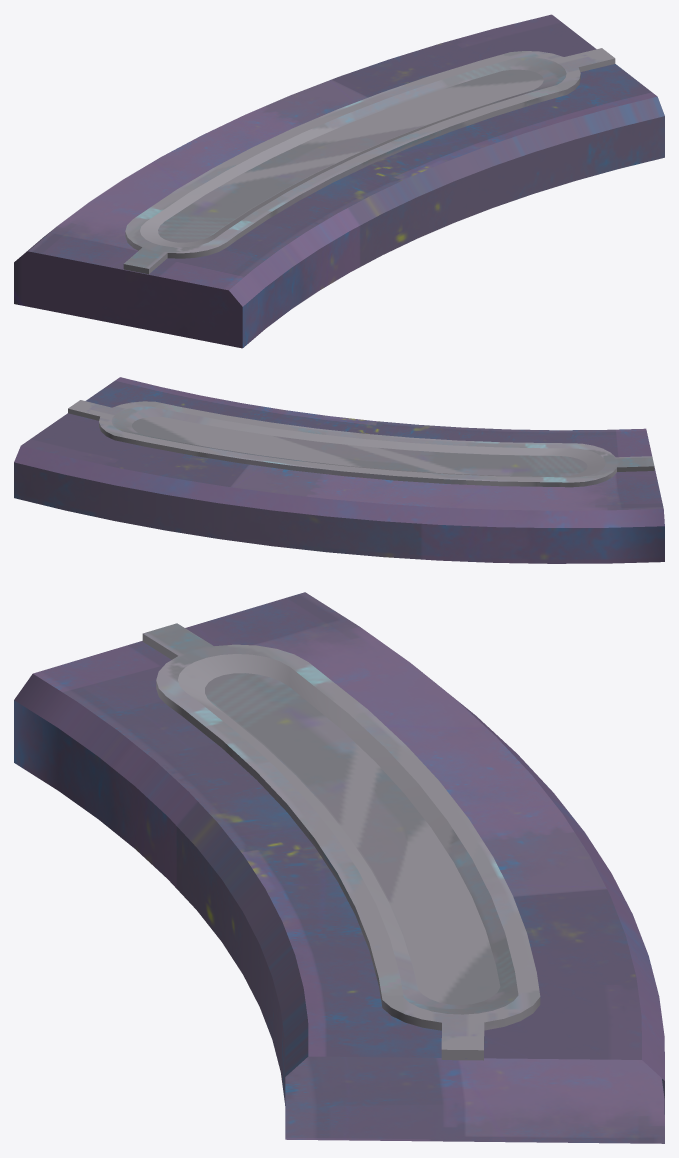
File: SM_Rail_35_L.fbx
3 renders of one model, top to bottom at view 1: azimuth 30°, elevation 25°; view 2: azimuth 150°, elevation 25°; view 3: azimuth 270°, elevation 25°, orthographic. The views are drawn at different scales.
Parts seen in each view (by area): view 1: PF_Rail_35_L; view 2: PF_Rail_35_L; view 3: PF_Rail_35_L.
Boxes of the visible parts, x1,y1,x2,y2 form: PF_Rail_35_L: (14, 14, 664, 348); PF_Rail_35_L: (14, 377, 664, 563); PF_Rail_35_L: (14, 592, 664, 1143).
Size of the model in its own units: 4.81 by 0.4338 by 2.79.
